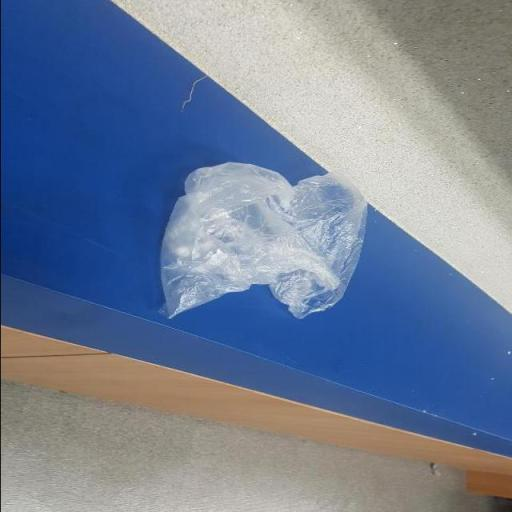plastic-bag: (156, 162, 370, 324)
